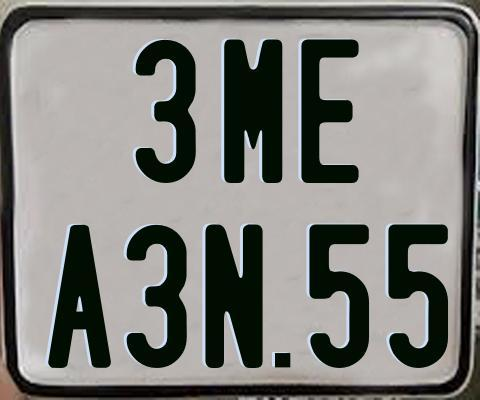3: (126, 222, 191, 369), (135, 38, 196, 185)
5: (308, 222, 373, 369), (386, 221, 449, 370)
A: (46, 223, 109, 370)
E: (299, 36, 362, 182)
M: (224, 39, 282, 184)
N: (202, 224, 264, 372)
